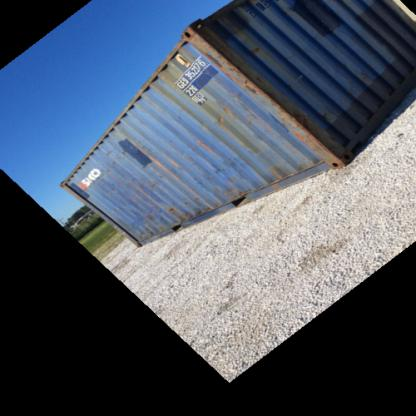Damage: (195, 38, 269, 96), (267, 104, 336, 155), (138, 143, 178, 178), (133, 208, 154, 245), (214, 97, 236, 132), (216, 178, 248, 197), (191, 133, 219, 150), (161, 201, 185, 220), (107, 146, 128, 166), (266, 158, 288, 175)
